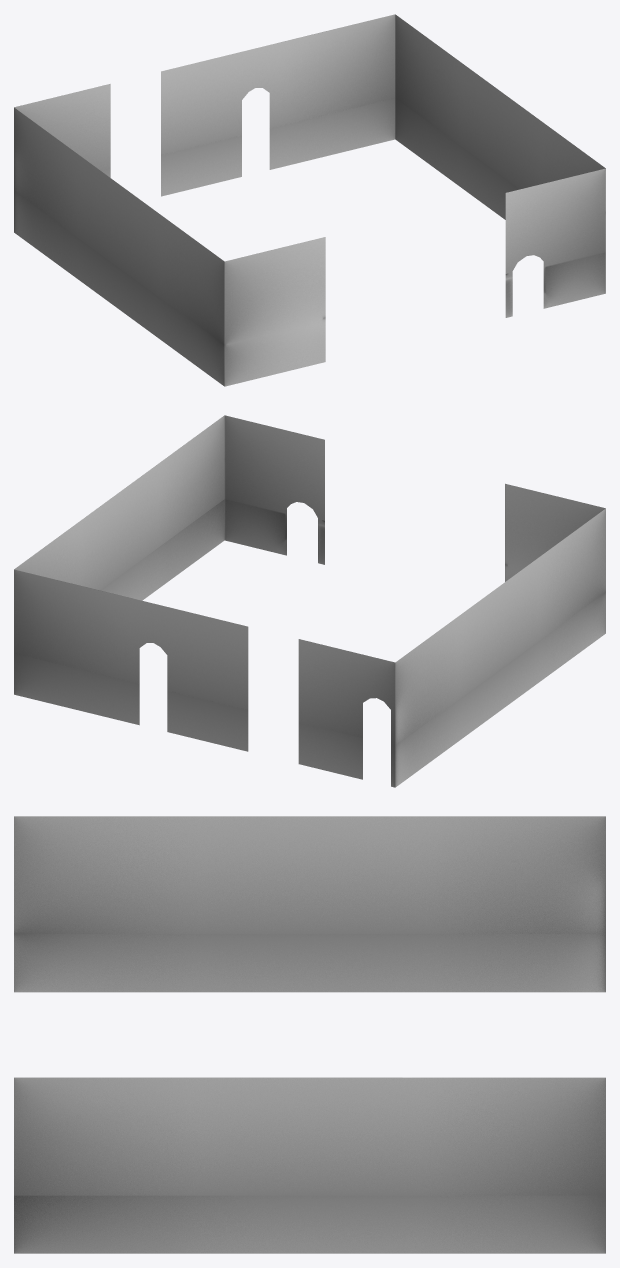
The model's file is propylon-court-walls.glb.
3 renders of one model, top to bottom at view 1: azimuth 30°, elevation 25°; view 2: azimuth 150°, elevation 25°; view 3: azimuth 270°, elevation 25°, orthographic. The views are drawn at different scales.
Parts seen in each view (by area): view 1: Cube.001; view 2: Cube.001; view 3: Cube.001.
Boxes of the visible parts, x1,y1,x2,y2 form: Cube.001: (14, 14, 605, 386); Cube.001: (14, 415, 605, 787); Cube.001: (14, 816, 605, 1253).
Size of the model in its own units: 32.64 by 10.24 by 31.23.
Materials: 1 (1 with a texture image).
